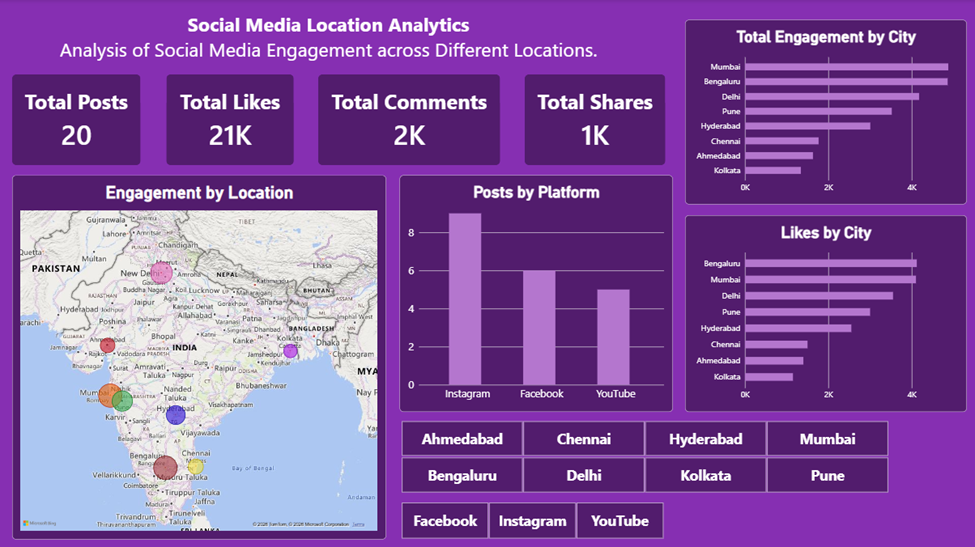

This screenshot's page, from the dashboard's own definition file:
{"tool":"powerbi","page":{"name":"Page 1","canvas":[1920,1080],"ordinal":0},"visuals":[{"type":"cardVisual","fields":{"Data":["CountNonNull(Sheet1.Post_ID)"]},"box":[23.9,147.9,252.9,178.9],"z":0},{"type":"cardVisual","fields":{"Data":["Sum(Sheet1.Likes)"]},"box":[326.9,147.9,250.5,178.9],"z":1000},{"type":"cardVisual","fields":{"Data":["Sum(Sheet1.Comments)"]},"box":[625.1,147.9,357.9,178.9],"z":2000},{"type":"cardVisual","fields":{"Data":["Sum(Sheet1.Shares)"]},"box":[1030.7,147.9,276.8,178.9],"z":3000},{"type":"map","title":"Engagement by Location","fields":{"Category":["Sheet1.City"],"Size":["Sum(Sheet1.Likes)"]},"box":[23.9,346,734.9,715.8],"z":4000},{"type":"clusteredBarChart","title":"Likes by City","fields":{"Category":["Sheet1.City"],"Y":["Sum(Sheet1.Likes)"]},"box":[1345.7,424.7,553.5,386.5],"z":5000},{"type":"columnChart","title":"Posts by Platform","fields":{"Category":["Sheet1.Platform"],"Y":["CountNonNull(Sheet1.Post_ID)"]},"box":[785,346,536.8,465.3],"z":6000},{"type":"barChart","title":"Total Engagement by City","fields":{"Category":["Sheet1.City"],"Y":["Sheet1.Total Engagement"]},"box":[1345.7,40.6,553.5,362.7],"z":7000},{"type":"slicer","fields":{"Values":["Sheet1.City"]},"box":[768.3,827.9,994.9,143.2],"z":8000},{"type":"slicer","fields":{"Values":["Sheet1.Platform"]},"box":[768.3,987.8,553.5,74],"z":9000},{"type":"textbox","box":[35.8,23.9,1219.2,107.4],"z":10000}]}

Visuals, with their boxes in screenshot pixels (x1, y1, x2, y2), scaled from the page's 1920x1080 canvas onto the 975x547 screenshot:
cardVisual - CountNonNull(Sheet1.Post_ID): {"x1": 12, "y1": 75, "x2": 141, "y2": 166}
cardVisual - Sum(Sheet1.Likes): {"x1": 166, "y1": 75, "x2": 293, "y2": 166}
cardVisual - Sum(Sheet1.Comments): {"x1": 317, "y1": 75, "x2": 499, "y2": 166}
cardVisual - Sum(Sheet1.Shares): {"x1": 523, "y1": 75, "x2": 664, "y2": 166}
"Engagement by Location" map: {"x1": 12, "y1": 175, "x2": 385, "y2": 538}
"Likes by City" clusteredBarChart: {"x1": 683, "y1": 215, "x2": 964, "y2": 411}
"Posts by Platform" columnChart: {"x1": 399, "y1": 175, "x2": 671, "y2": 411}
"Total Engagement by City" barChart: {"x1": 683, "y1": 21, "x2": 964, "y2": 204}
slicer - Sheet1.City: {"x1": 390, "y1": 419, "x2": 895, "y2": 492}
slicer - Sheet1.Platform: {"x1": 390, "y1": 500, "x2": 671, "y2": 538}
textbox: {"x1": 18, "y1": 12, "x2": 637, "y2": 67}
